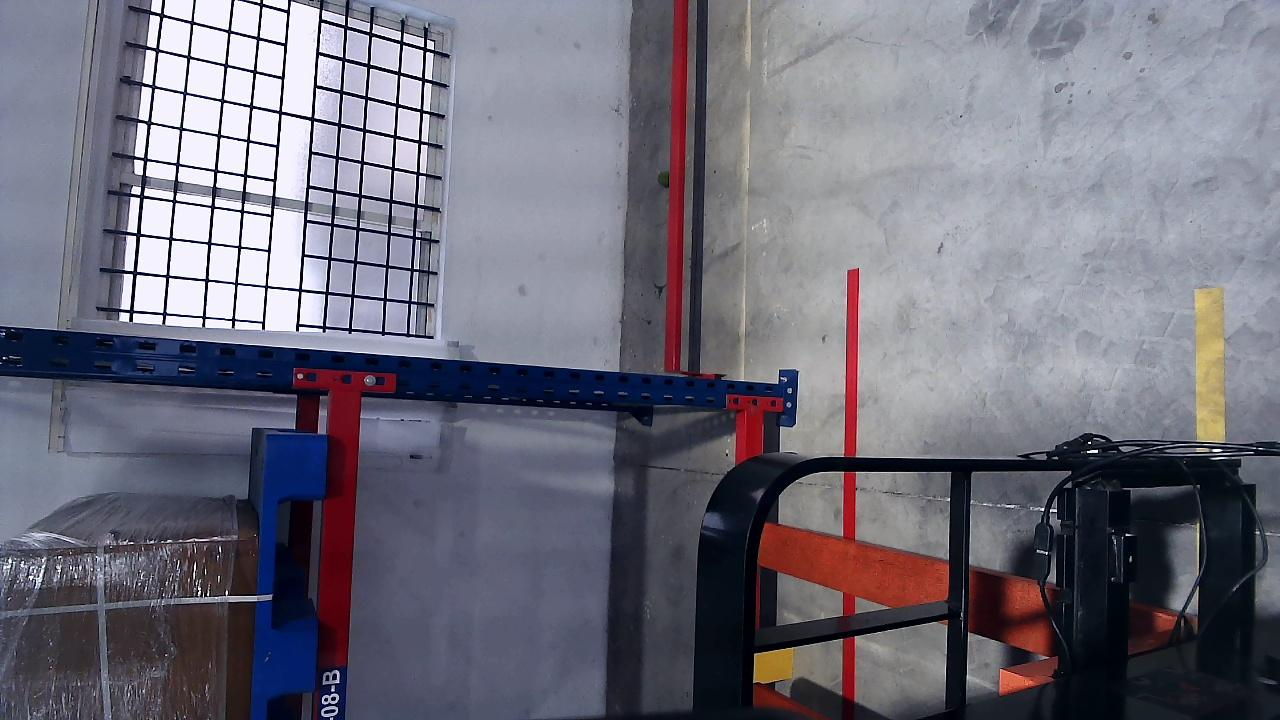h_rack: (312, 389, 363, 719)
orange_strip: (753, 648, 794, 683)
red_line: (844, 269, 861, 455)
small_pallet: (248, 435, 329, 718)
yellow_line: (1194, 286, 1225, 444)
